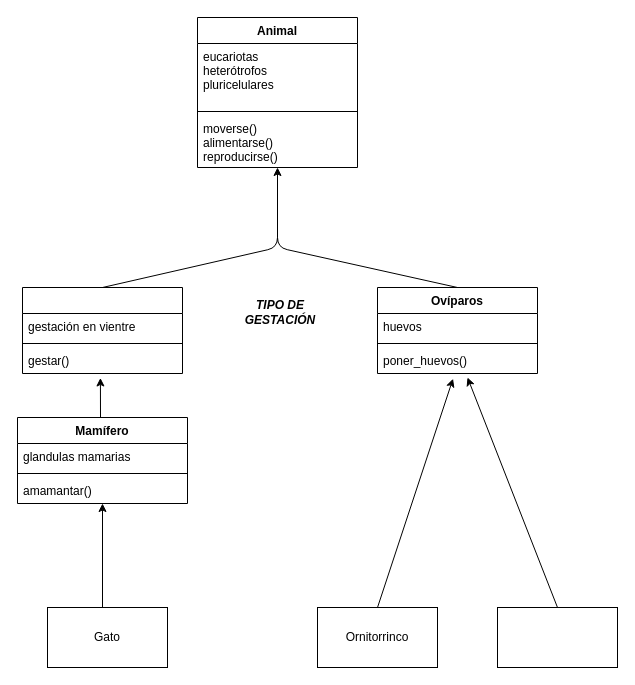
The diagram is 635 pixels wide and 685 high, and some of its shapes have lost their labels. Here are the shapes that lost their labels. From the top down, the box of each, then its label:
(22, 286, 182, 374): Viviparos
(496, 606, 618, 668): Pollo
